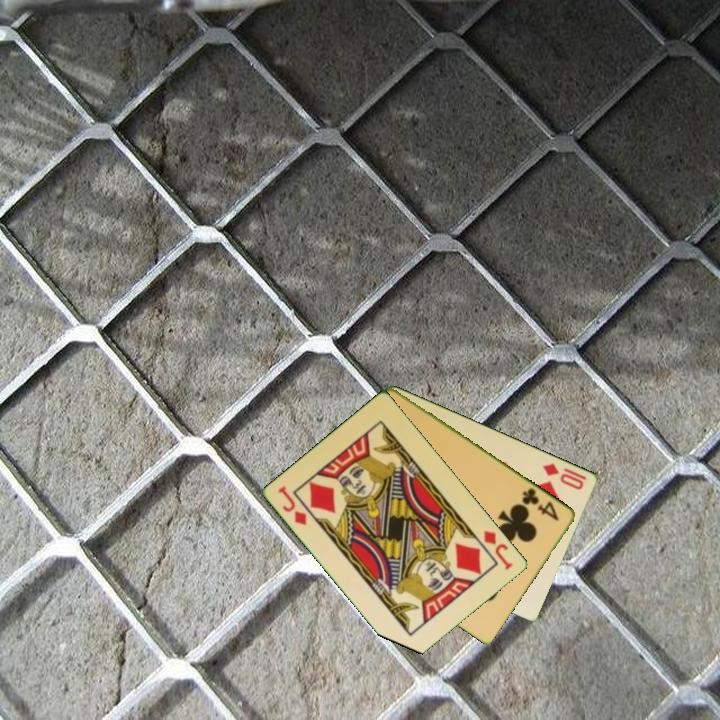10d: (539, 459, 587, 492)
4c: (518, 484, 562, 524)
Jd: (480, 527, 516, 573), (275, 482, 310, 529)
